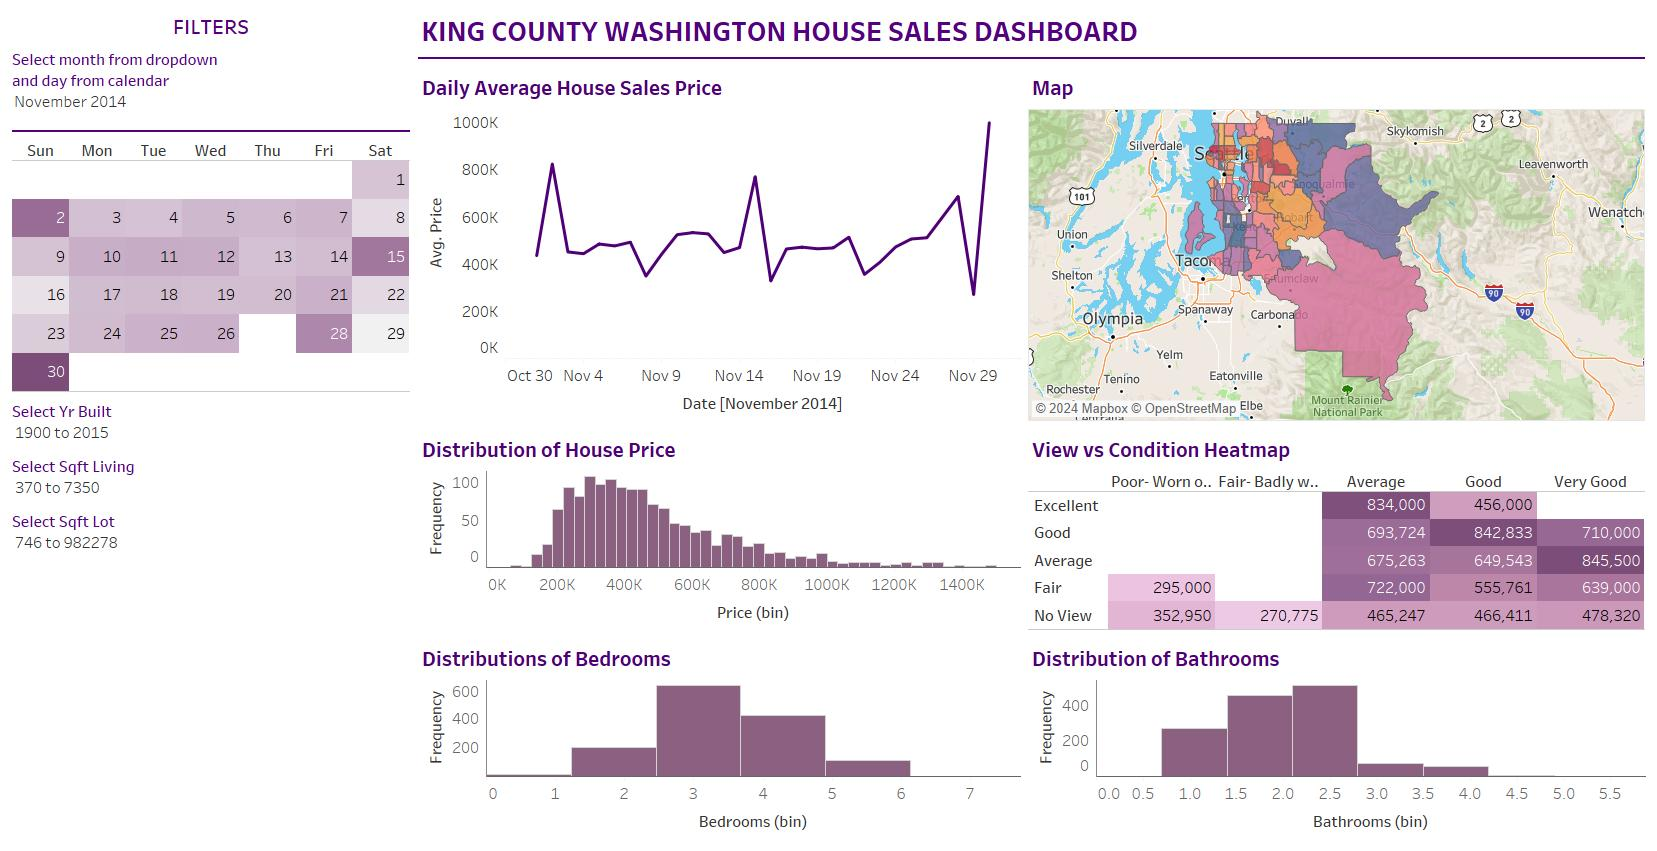

Layout of this report page (visuals, bound fields, positions):
{"tool":"tableau","page":{"name":"Dashboard 1","canvas":[1000,1000],"units":"permille","ordinal":0},"visuals":[{"type":"text","box":[4.8,9.4,245,42.3]},{"type":"text","box":[249.8,9.4,745.3,52.9]},{"type":"filter","title":"Calendar","param":"[federated.02iy4tp0mwbbs21945l3p069kh1k].[my:date:ok]","box":[4.8,51.7,245,96.4]},{"type":"blank","box":[249.8,62.3,745.3,11.8]},{"type":"worksheet","title":"Line Chart","mark":"Automatic","rows":["price"],"cols":["date"],"box":[249.8,74,368.1,426]},{"type":"worksheet","title":"Map","mark":"Automatic","box":[618,74,377.2,426]},{"type":"blank","box":[4.8,148.1,245,11.8]},{"type":"worksheet","title":"Calendar","mark":"Square","rows":["date"],"cols":["date"],"box":[4.8,159.8,245,305.5]},{"type":"filter","title":"Calendar","param":"[federated.02iy4tp0mwbbs21945l3p069kh1k].[none:yr_built:qk]","box":[4.8,465.3,245,64.6]},{"type":"worksheet","title":"HistHousePrice","mark":"Automatic","rows":["price"],"cols":["Price (bin)"],"box":[249.8,500,368.1,245.3]},{"type":"worksheet","title":"Heatmap","mark":"Square","rows":["view"],"cols":["condition"],"box":[618,500,377.2,245.3]},{"type":"filter","title":"Calendar","param":"[federated.02iy4tp0mwbbs21945l3p069kh1k].[none:sqft_living:qk]","box":[4.8,530,245,64.6]},{"type":"filter","title":"Calendar","param":"[federated.02iy4tp0mwbbs21945l3p069kh1k].[none:sqft_lot:qk]","box":[4.8,594.6,245,64.6]},{"type":"worksheet","title":"HistBedrooms","mark":"Automatic","rows":["bedrooms"],"cols":["Bedrooms (bin)"],"box":[249.8,745.3,368.1,245.3]},{"type":"worksheet","title":"HistBathroom","mark":"Automatic","rows":["bathrooms"],"cols":["Bathrooms (bin)"],"box":[618,745.3,377.2,245.3]}]}

Visuals, with their boxes on the dashboard's canvas, which has no fixed pixel size, in thousandths of its width and height (x1, y1, x2, y2). These are canvas units, not pixel positions in the 1657x851 screenshot, which may show the page scaled, cropped or inside an application window:
text: region(5, 9, 250, 52)
text: region(250, 9, 995, 62)
"Calendar" filter: region(5, 52, 250, 148)
blank: region(250, 62, 995, 74)
"Line Chart" worksheet: region(250, 74, 618, 500)
"Map" worksheet: region(618, 74, 995, 500)
blank: region(5, 148, 250, 160)
"Calendar" worksheet (Square marks): region(5, 160, 250, 465)
"Calendar" filter: region(5, 465, 250, 530)
"HistHousePrice" worksheet: region(250, 500, 618, 745)
"Heatmap" worksheet (Square marks): region(618, 500, 995, 745)
"Calendar" filter: region(5, 530, 250, 595)
"Calendar" filter: region(5, 595, 250, 659)
"HistBedrooms" worksheet: region(250, 745, 618, 991)
"HistBathroom" worksheet: region(618, 745, 995, 991)
